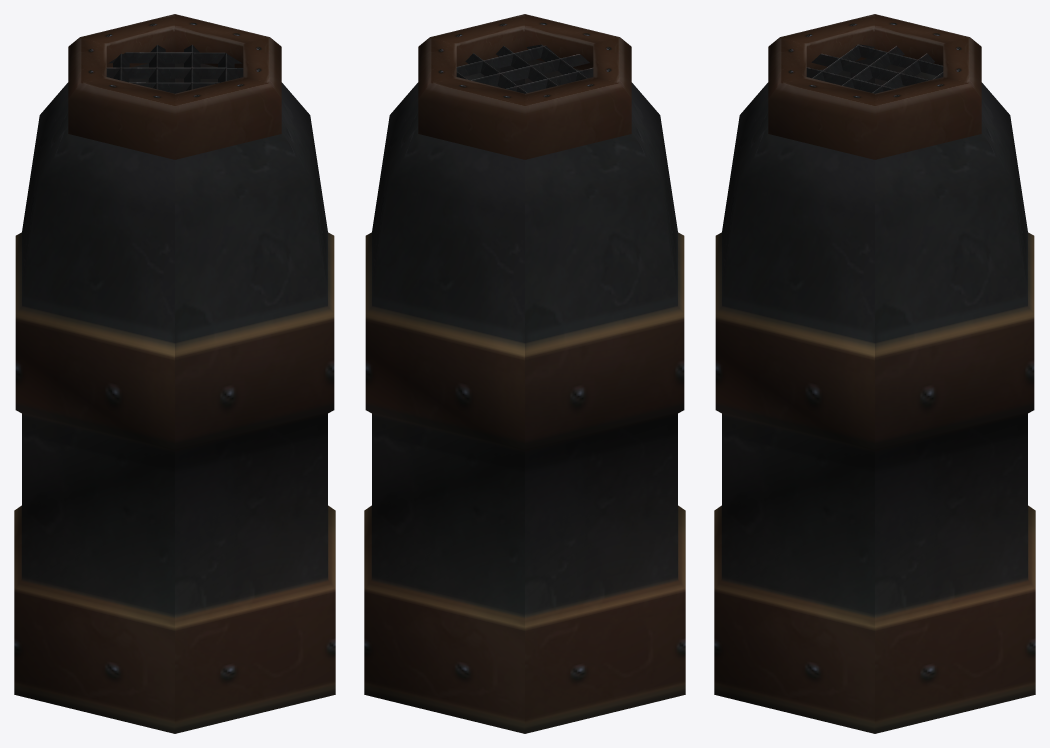
File: sewer_light002.FBX
The picture shows the model from 3 angles, left to right: view 1: azimuth 30°, elevation 25°; view 2: azimuth 150°, elevation 25°; view 3: azimuth 270°, elevation 25°; orthographic projection.
Visible parts, largest first — view 1: sewer_light002; view 2: sewer_light002; view 3: sewer_light002.
Boxes of the visible parts, <box> form: sewer_light002: <box>14,14,335,733</box>; sewer_light002: <box>364,14,685,733</box>; sewer_light002: <box>714,14,1035,733</box>.
Size of the model in its own units: 126 by 223 by 109.
